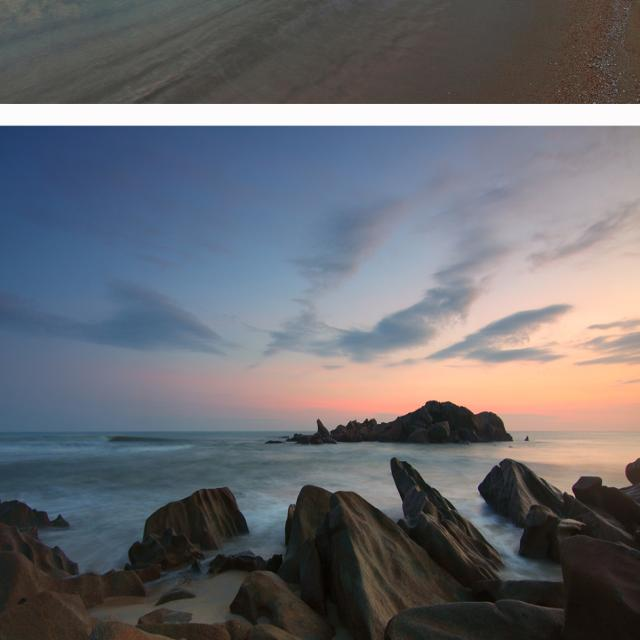island: (274, 388, 513, 448)
